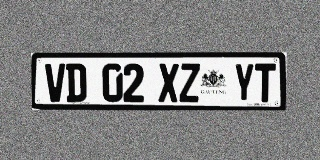0: (102, 63, 123, 102)
2: (123, 63, 144, 102)
D: (66, 63, 86, 102)
T: (255, 63, 276, 102)
V: (45, 63, 66, 102)
X: (158, 63, 179, 102)
Y: (233, 63, 254, 102)
Z: (179, 63, 200, 102)
